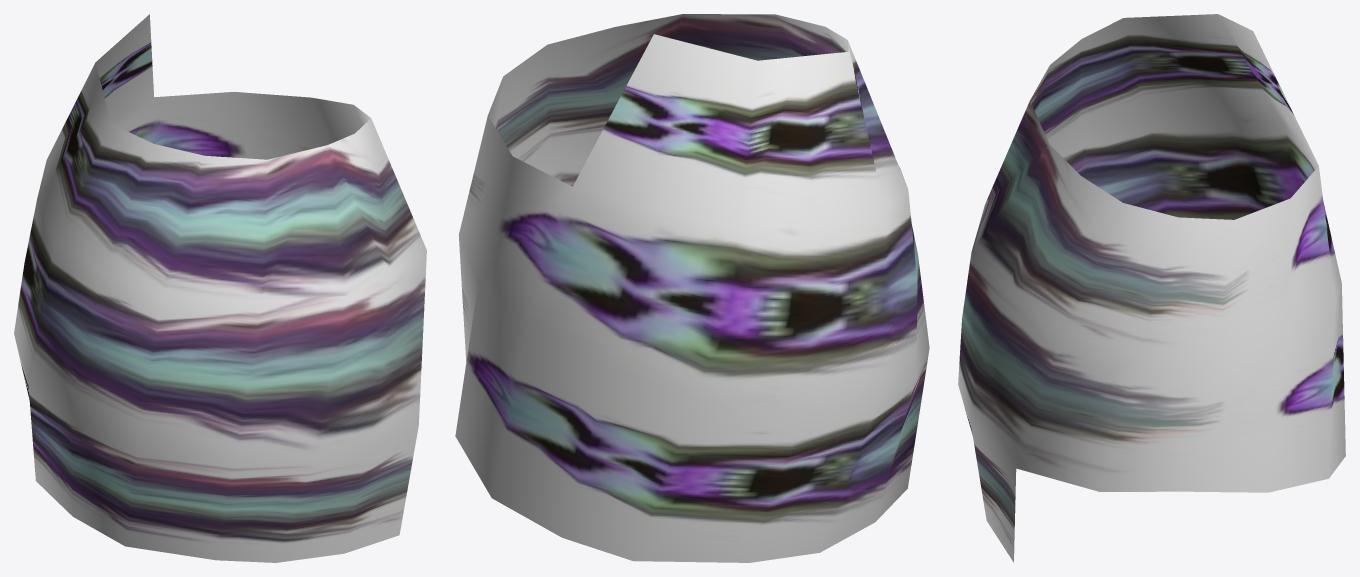
The model's file is soulspiral.fbx.
3 views of the same model, side by side, from view 1: azimuth 30°, elevation 25°; view 2: azimuth 150°, elevation 25°; view 3: azimuth 270°, elevation 25° (orthographic). The views are drawn at different scales.
Visible parts, largest first — view 1: loftedSurface2; view 2: loftedSurface2; view 3: loftedSurface2.
Part boxes in pixels (box(x1,y1,x2,y2)): loftedSurface2: box(14, 14, 426, 562); loftedSurface2: box(455, 14, 929, 562); loftedSurface2: box(958, 14, 1345, 562).
Bounding box in the file's own units: 511 × 642 × 482.
Materials: 1 (1 with a texture image).
